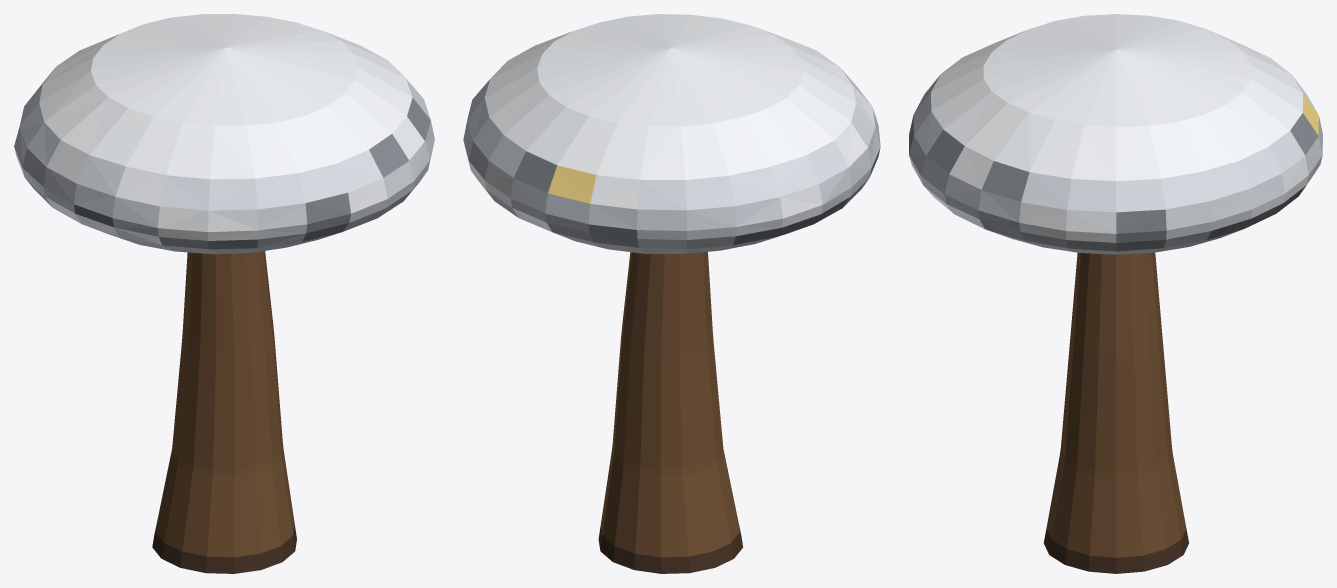
File: AetherheartTreeFar.obj
3 views of the same model, side by side, from view 1: azimuth 30°, elevation 25°; view 2: azimuth 150°, elevation 25°; view 3: azimuth 270°, elevation 25° (orthographic).
Size of the model in its own units: 11.27 by 14.6 by 11.1.
